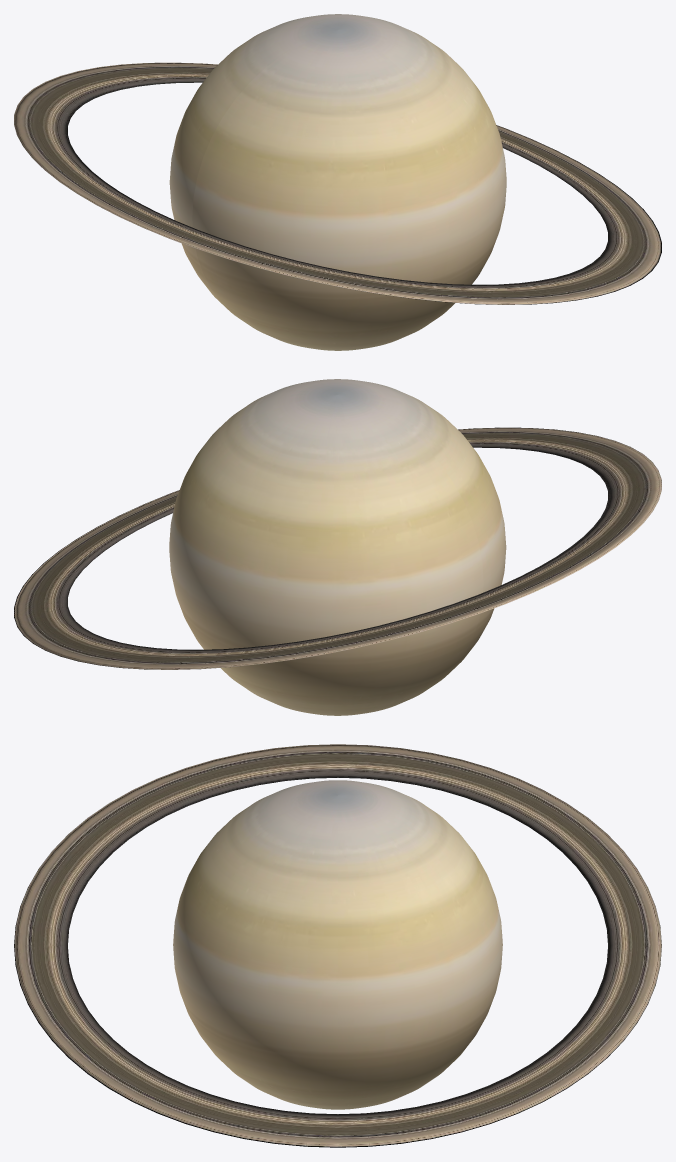
The model's file is saturn_compressed.glb.
3 renders of one model, top to bottom at view 1: azimuth 30°, elevation 25°; view 2: azimuth 150°, elevation 25°; view 3: azimuth 270°, elevation 25°, orthographic. The views are drawn at different scales.
Parts seen in each view (by area): view 1: Object_9, Object_6; view 2: Object_9, Object_6; view 3: Object_9, Object_6.
Boxes of the visible parts, x1,y1,x2,y2 form: Object_9: [169, 14, 506, 350]; Object_6: [14, 62, 661, 304]; Object_9: [169, 379, 506, 715]; Object_6: [14, 427, 661, 669]; Object_9: [173, 780, 502, 1109]; Object_6: [14, 744, 661, 1147].
Size of the model in its own units: 382 by 200 by 393.
Materials: 2 (2 with a texture image).
